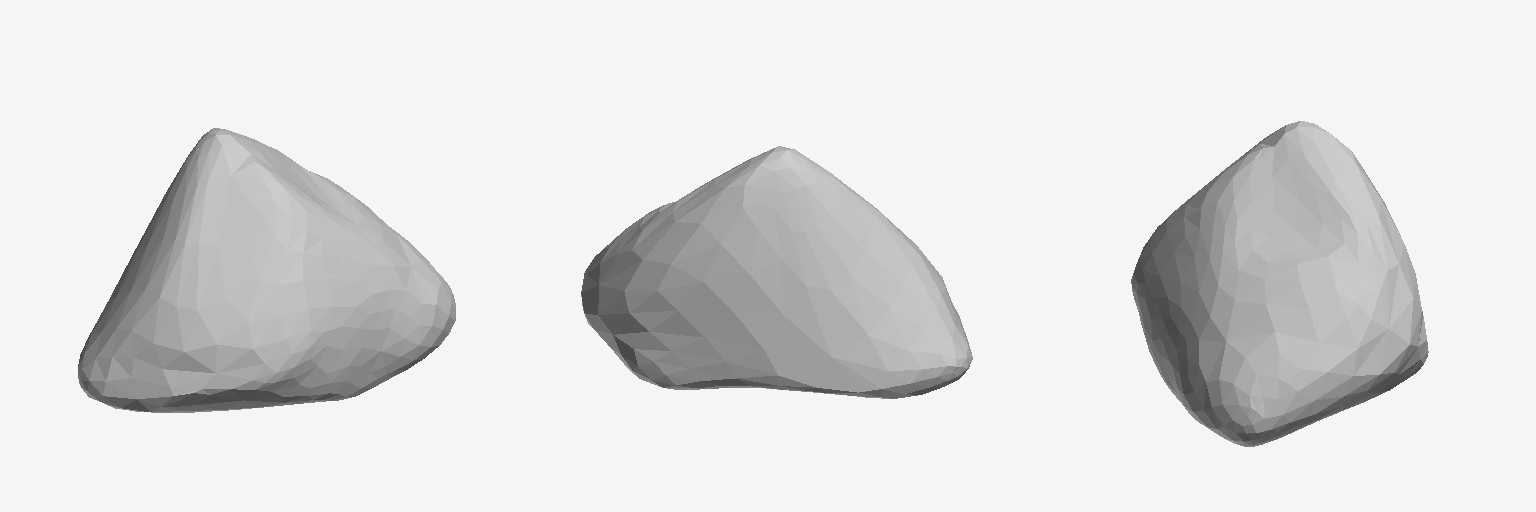
Rendered from Rock06.obj.
3 views of the same model, side by side, from view 1: azimuth 30°, elevation 25°; view 2: azimuth 150°, elevation 25°; view 3: azimuth 270°, elevation 25° (orthographic).
Parts seen in each view (by area): view 1: Rock01; view 2: Rock01; view 3: Rock01.
Boxes of the visible parts, box(x1,y1,x2,y2) form: Rock01: box(78, 128, 455, 412); Rock01: box(581, 146, 972, 398); Rock01: box(1131, 121, 1428, 446).
Size of the model in its own units: 40.91 by 25.62 by 28.57.